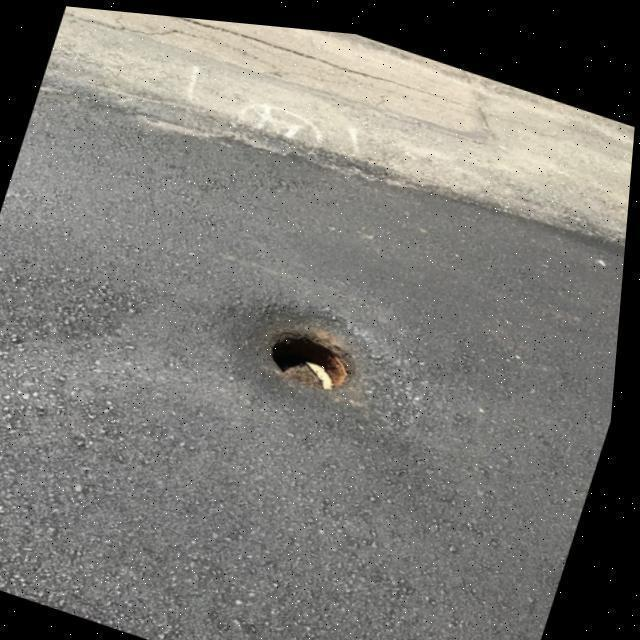Pothole: (266, 318, 352, 389)
